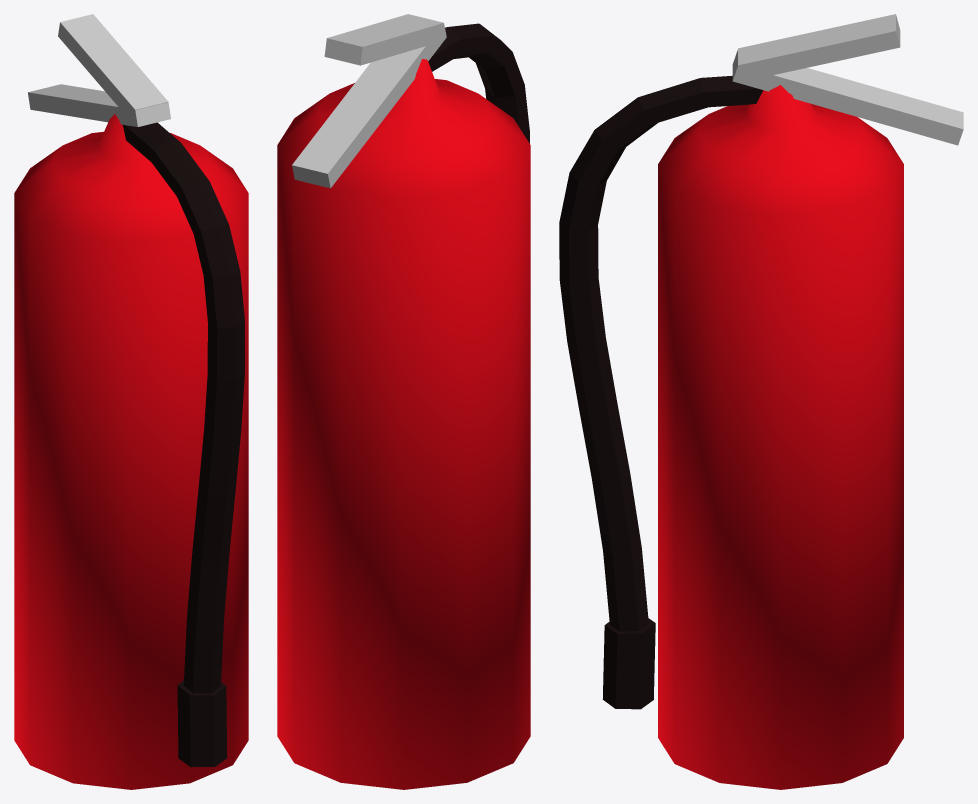
Rendered from aparat_za_gašenje.fbx.
3 views of the same model, side by side, from view 1: azimuth 30°, elevation 25°; view 2: azimuth 150°, elevation 25°; view 3: azimuth 270°, elevation 25° (orthographic). The views are drawn at different scales.
Visible parts, largest first — view 1: aparat; view 2: aparat; view 3: aparat.
Part boxes in pixels (<box>): aparat: <box>14,14,248,789</box>; aparat: <box>277,14,530,789</box>; aparat: <box>559,14,963,789</box>.
Bounding box in the file's own units: 177 × 568 × 291.
